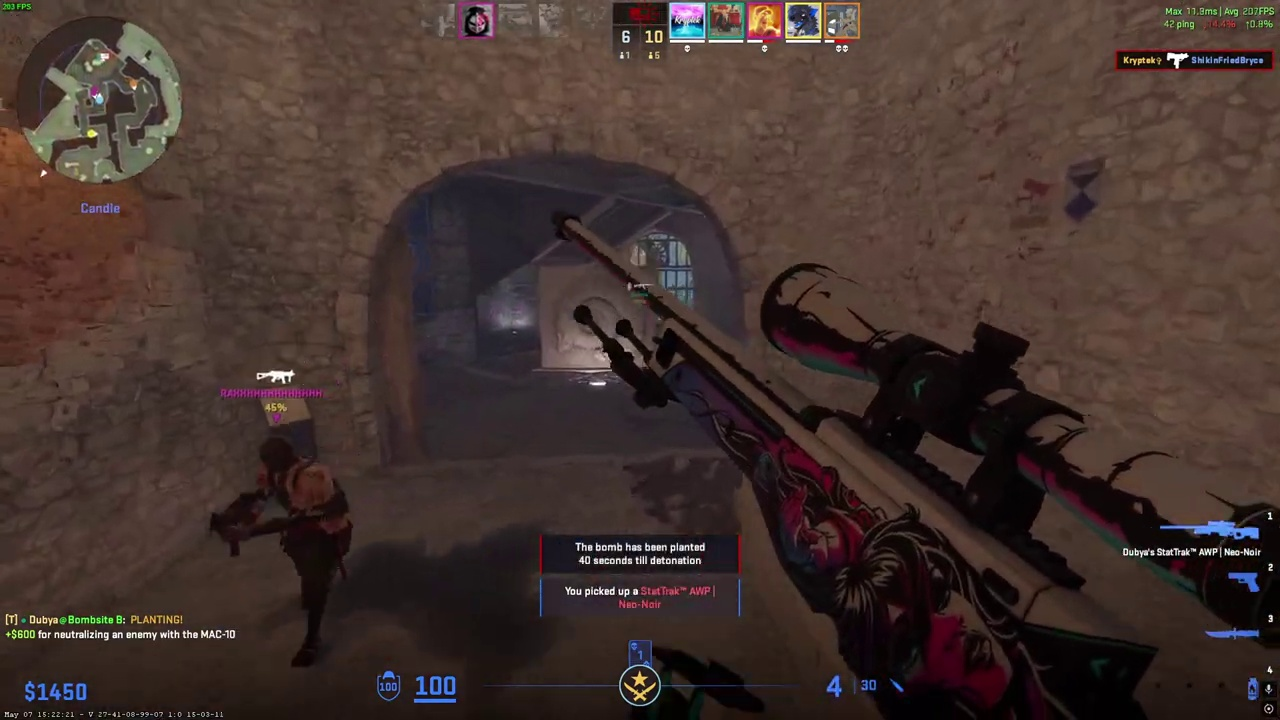Terrorist: (245, 436, 353, 667)
